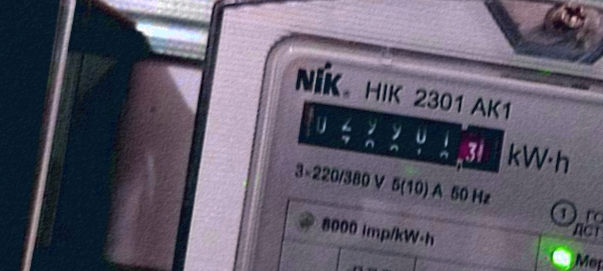0: (412, 120, 431, 147), (312, 111, 330, 135)
1: (439, 124, 454, 150)
2: (338, 110, 356, 134)
3: (462, 140, 480, 165)
9: (388, 119, 404, 143), (364, 114, 379, 137)
screen: (288, 91, 515, 185)
